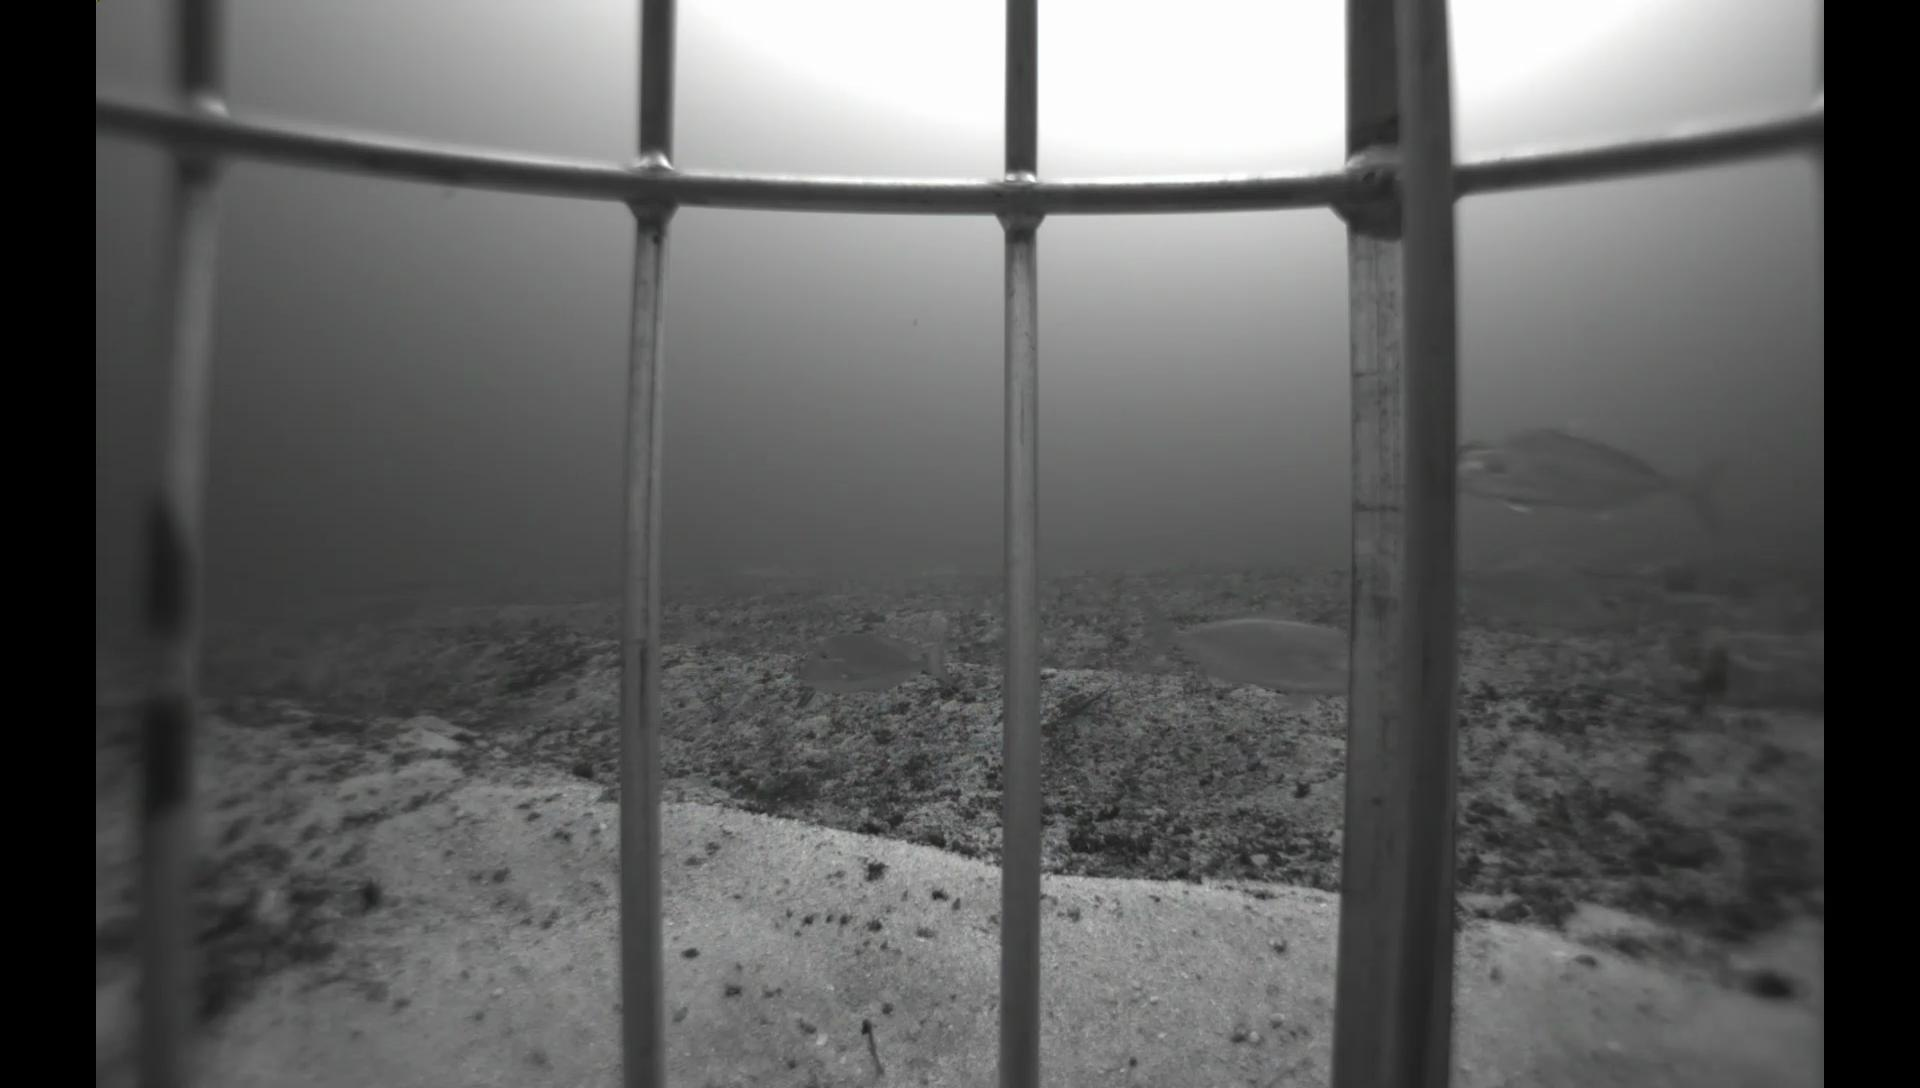CALAMUSPRORIDENS-170210605: (794, 620, 960, 695)
SERIOLAFASCIATA-170113103: (1453, 405, 1779, 559), (1124, 578, 1348, 717), (1458, 543, 1643, 640)
